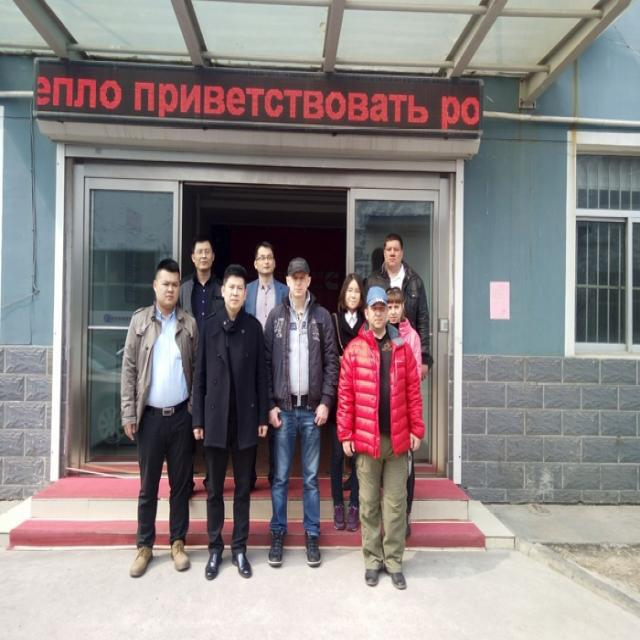body: (332, 283, 427, 591), (118, 257, 199, 579), (188, 262, 268, 580), (260, 255, 339, 569), (361, 230, 434, 382), (328, 269, 368, 534), (385, 286, 422, 539), (243, 239, 291, 333), (176, 237, 222, 334), (368, 240, 383, 272)
